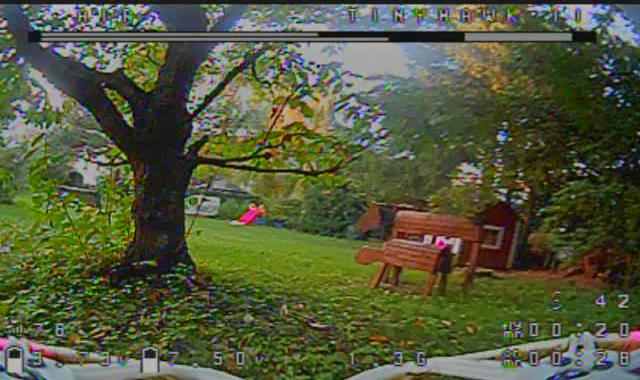horse: (363, 194, 488, 292), (358, 239, 461, 308)
